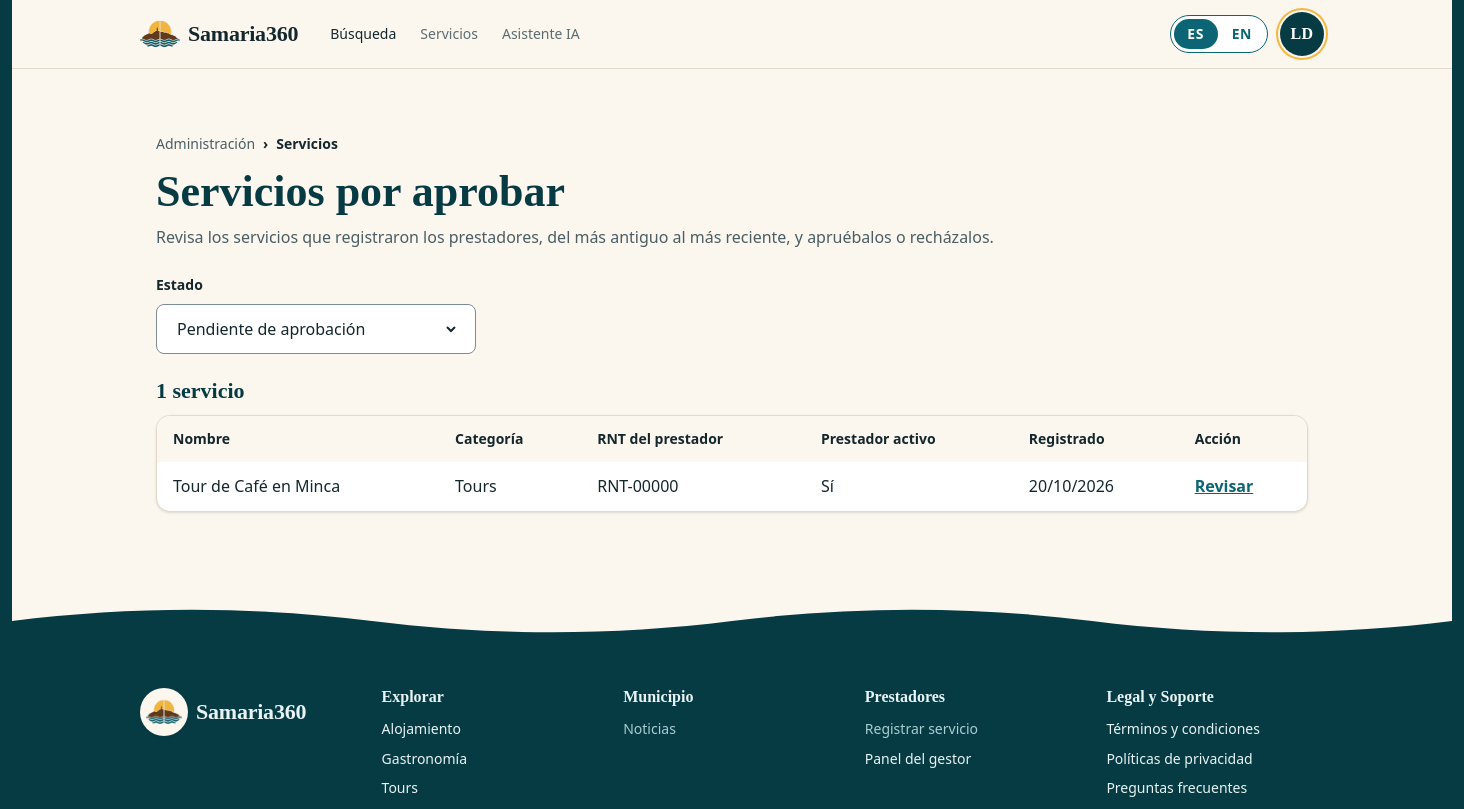
Scenario: Aprobar (DEC-177) › desde la cola: envía {decision: "Aprobar"}, vuelve a la cola con el aviso y la cola ya no tiene el servicio
Click the link with aria-label "Revisar Tour de Café en Minca".
click(1224, 486)  # box [1195,475,1253,497]
(page scrolled)
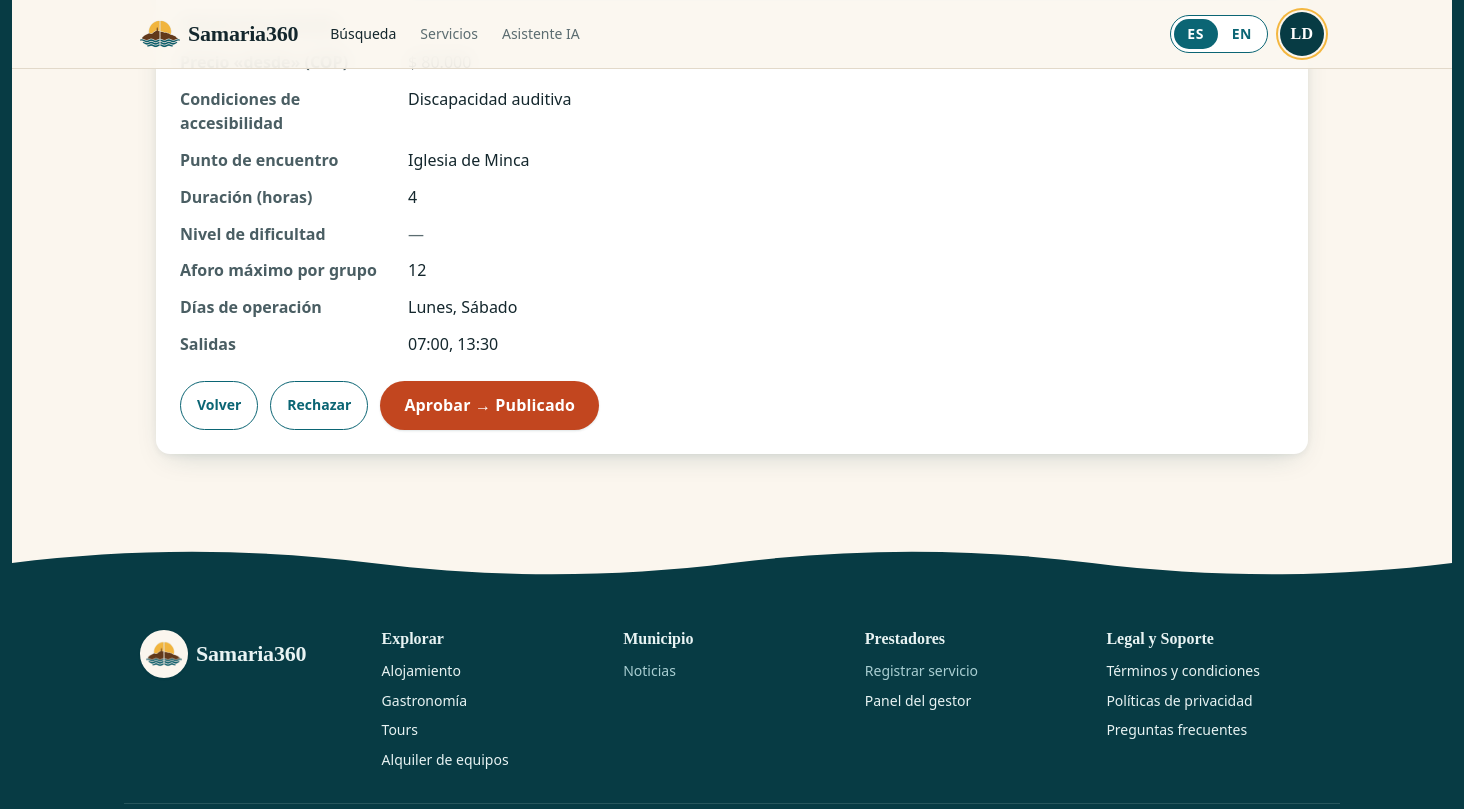
Click the button "Aprobar → Publicado".
click(490, 405)  # box [380,381,599,430]
(page scrolled)
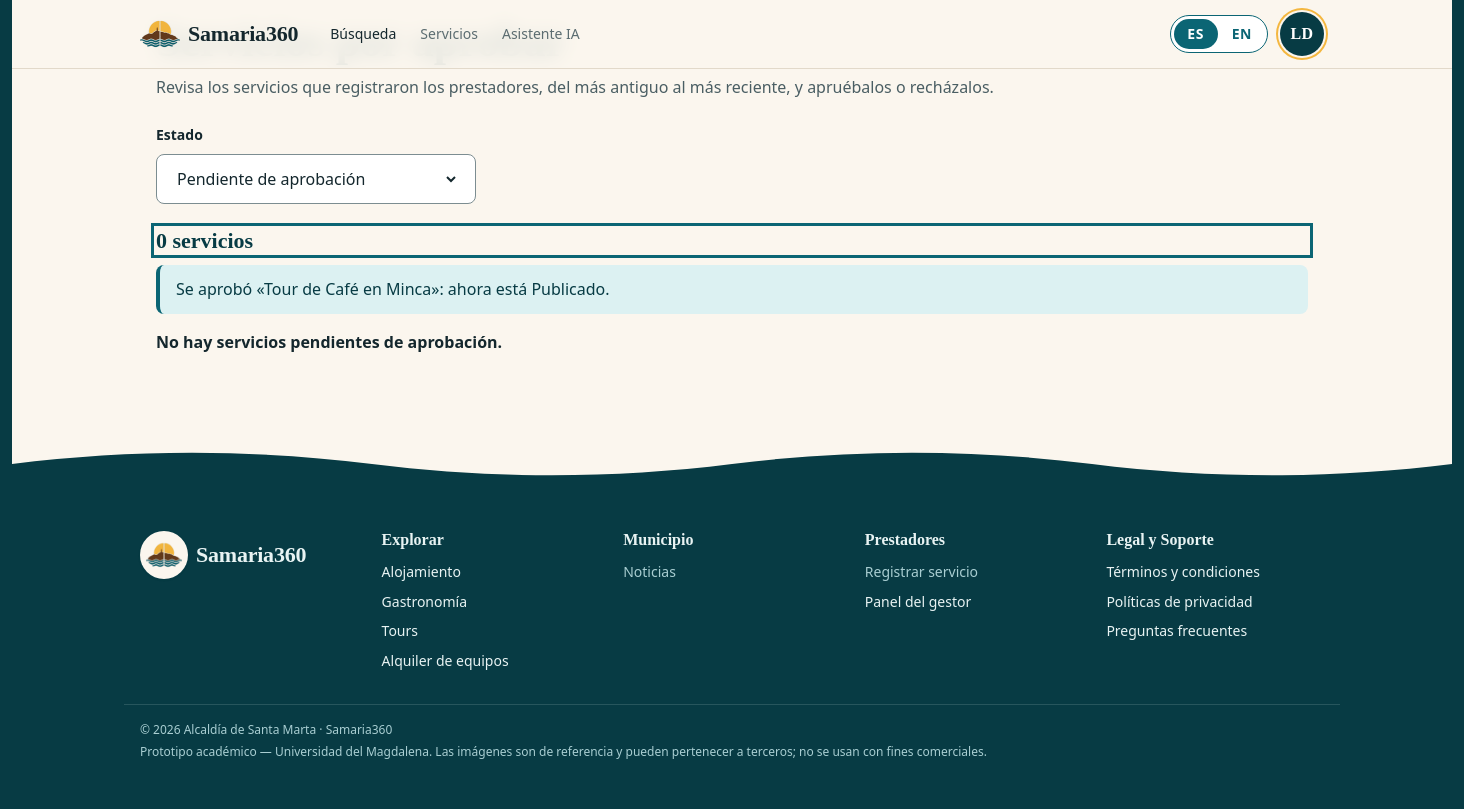
Now the text "Se aprobó «Tour de Café en Minca»: ahora está Publicado." is shown, box [176,278,610,300]
Now the text "Se aprobó «Tour de Café en Minca»: ahora está Publicado." is shown once, box [156,265,1308,314]
Now the text "No hay servicios pendientes de aprobación." is shown, box [156,331,502,353]
